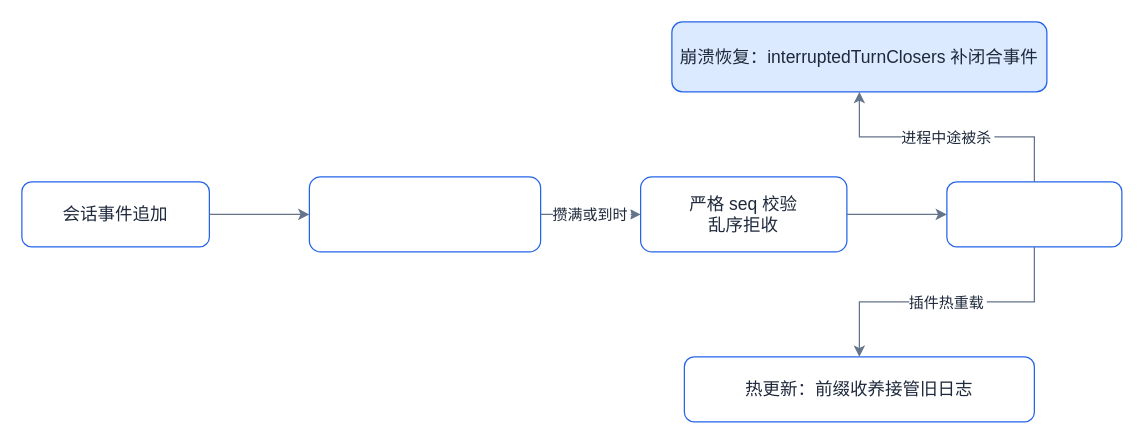
Image size: 1144x444. Some labels were removed from this diagram. Here are the shapes that lost their labels. From the top down, the box of each, then its label:
(308, 176, 541, 252): write-behind 缓冲 200ms 攒批
(946, 181, 1122, 247): 批量落盘
